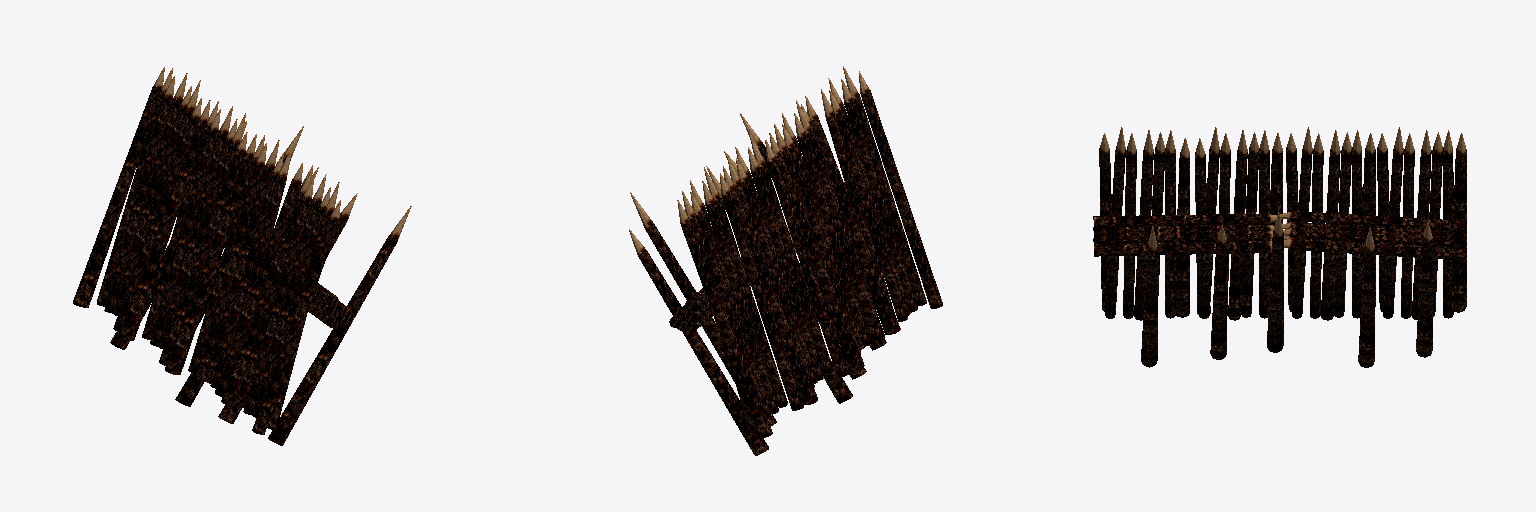
The picture shows the model from 3 angles: view 1: azimuth 30°, elevation 25°; view 2: azimuth 150°, elevation 25°; view 3: azimuth 270°, elevation 25°; orthographic projection.
Visible parts, largest first — view 1: Plane; view 2: Plane; view 3: Plane.
Boxes of the visible parts, x1,y1,x2,y2 form: Plane: [73, 67, 411, 445]; Plane: [629, 66, 942, 455]; Plane: [1093, 127, 1466, 367].
Size of the model in its own units: 0.4451 by 0.5989 by 0.7721.
1 materials, 1 textured.